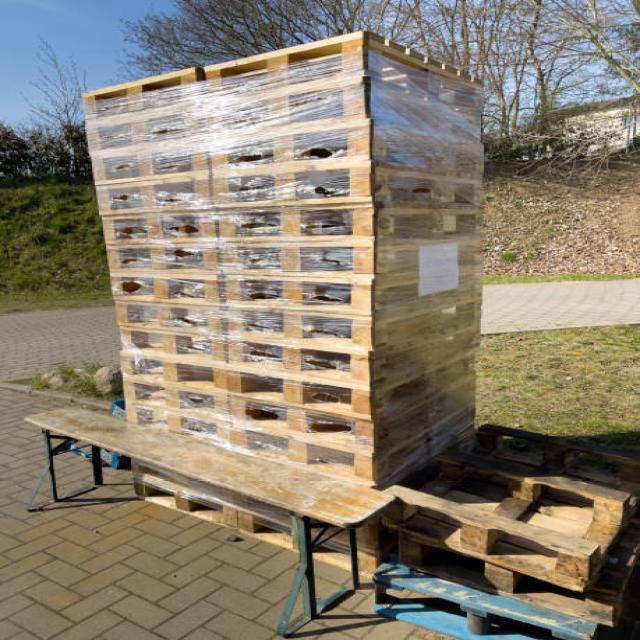Wooden-Pallets: (201, 24, 365, 96), (201, 194, 382, 248), (231, 393, 380, 456), (207, 123, 367, 176), (223, 329, 380, 378), (82, 134, 199, 199), (227, 275, 376, 318), (106, 375, 231, 424), (94, 269, 221, 315), (78, 66, 193, 115), (88, 209, 207, 255), (102, 323, 219, 360)
